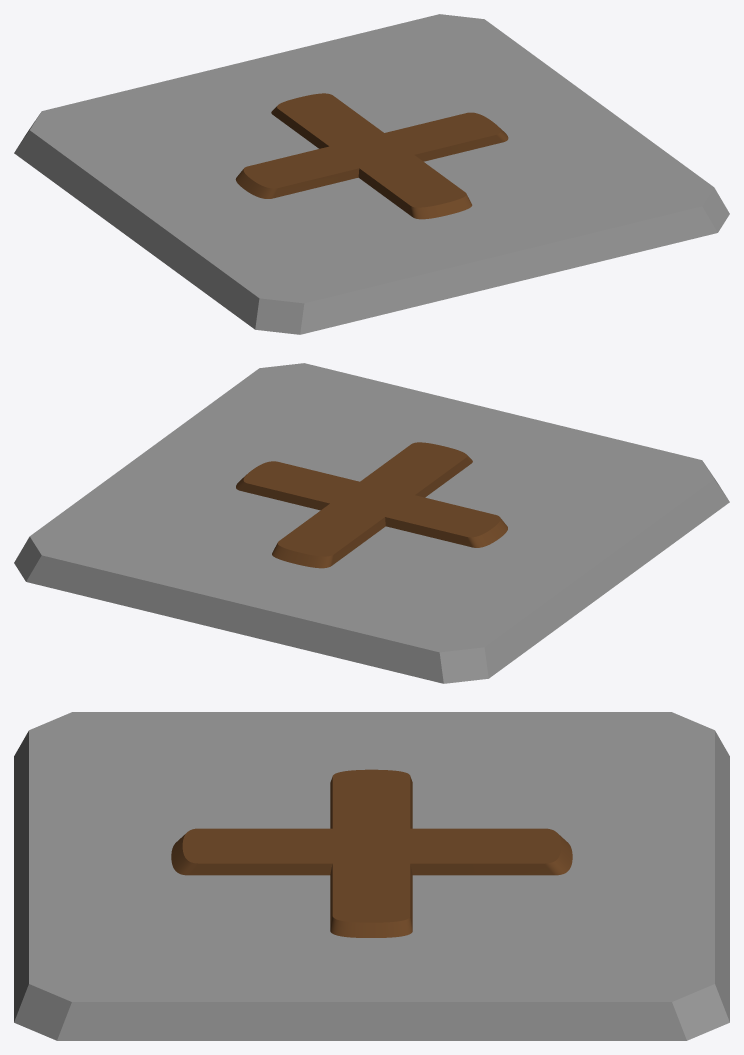
Rendered from Turret Place.FBX.
3 views of the same model, one above another, from view 1: azimuth 30°, elevation 25°; view 2: azimuth 150°, elevation 25°; view 3: azimuth 270°, elevation 25° (orthographic). The views are drawn at different scales.
Visible parts, largest first — view 1: Box029; view 2: Box029; view 3: Box029.
Boxes of the visible parts, left/top/right/bottom form: Box029: left=14, top=14, right=729, bottom=334; Box029: left=14, top=363, right=729, bottom=683; Box029: left=14, top=712, right=729, bottom=1040.
Size of the model in its own units: 200 by 13.35 by 200.
